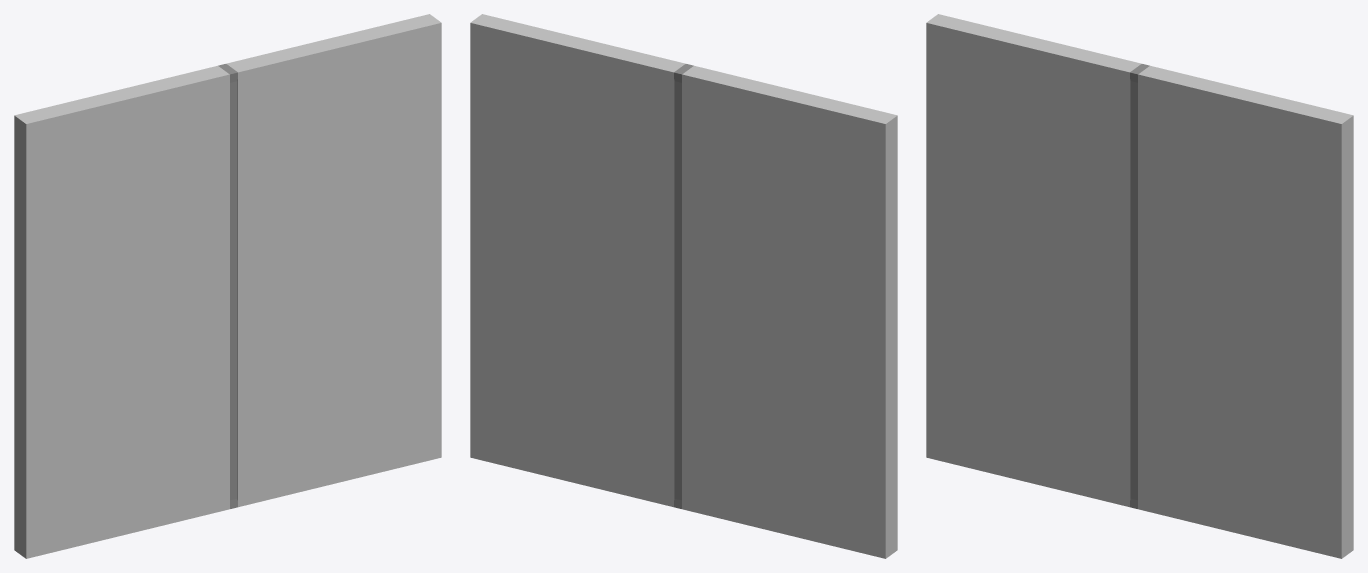
The model's file is Concrete.fbx.
3 views of the same model, side by side, from view 1: azimuth 30°, elevation 25°; view 2: azimuth 150°, elevation 25°; view 3: azimuth 330°, elevation 25° (orthographic).
Parts seen in each view (by area): view 1: Concrete; view 2: Concrete; view 3: Concrete.
Part boxes in pixels (<box>): Concrete: <box>14,14,441,558</box>; Concrete: <box>470,14,897,558</box>; Concrete: <box>926,14,1353,558</box>.
Bounding box in the file's own units: 200 × 200 × 10.
